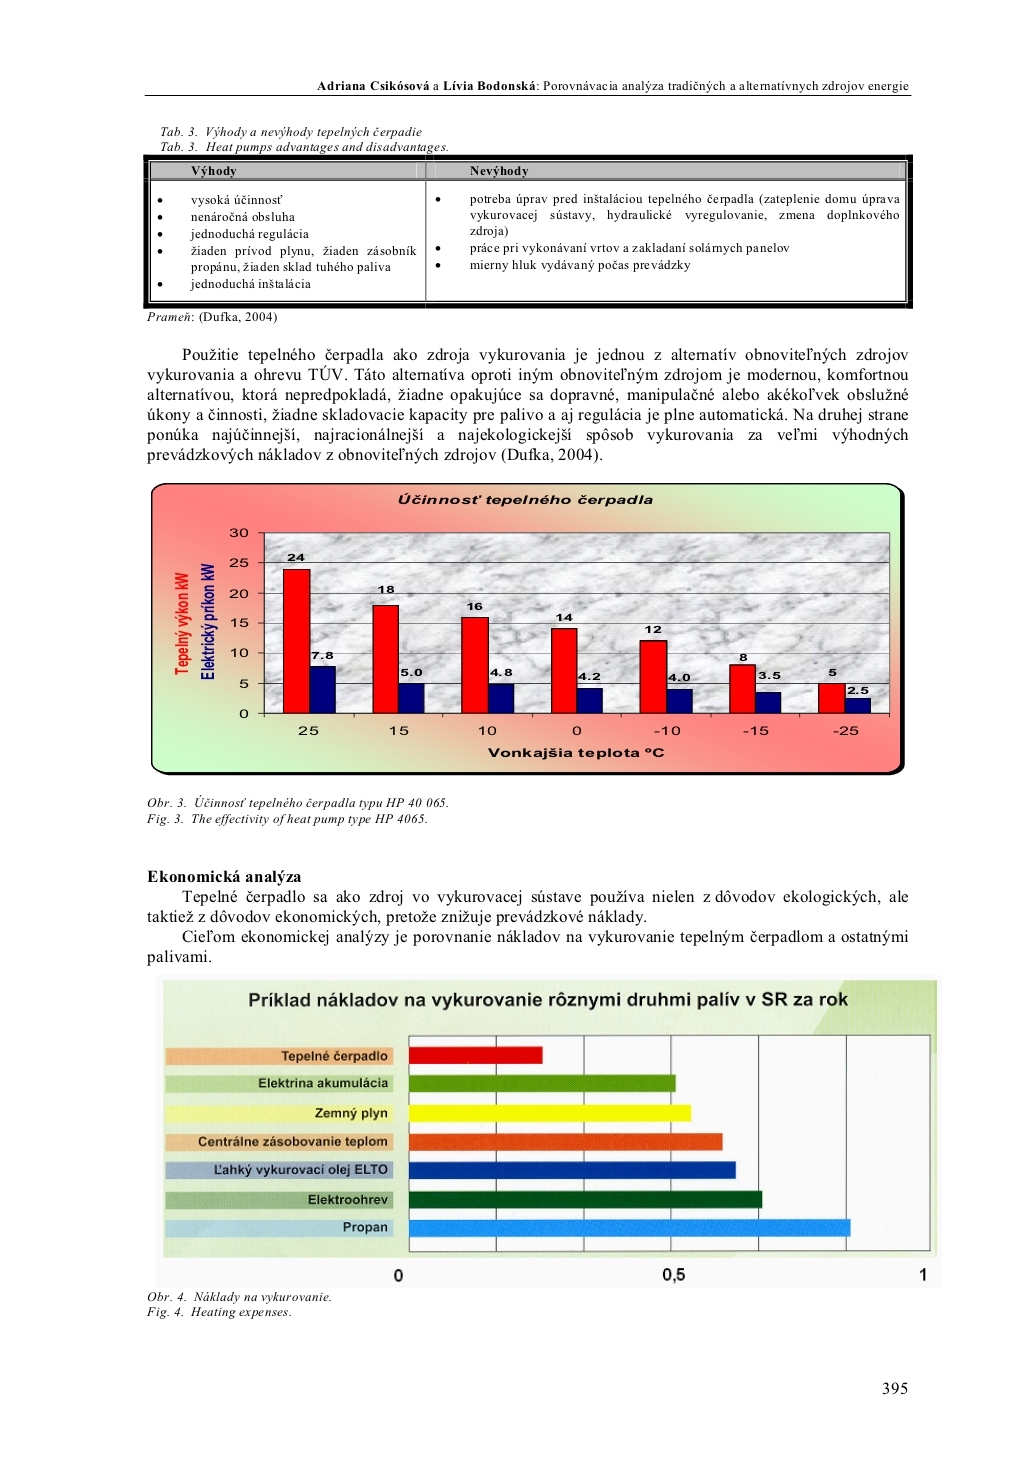Table: (143, 125, 912, 323)
figure: (163, 980, 936, 1283), (151, 482, 904, 776)
